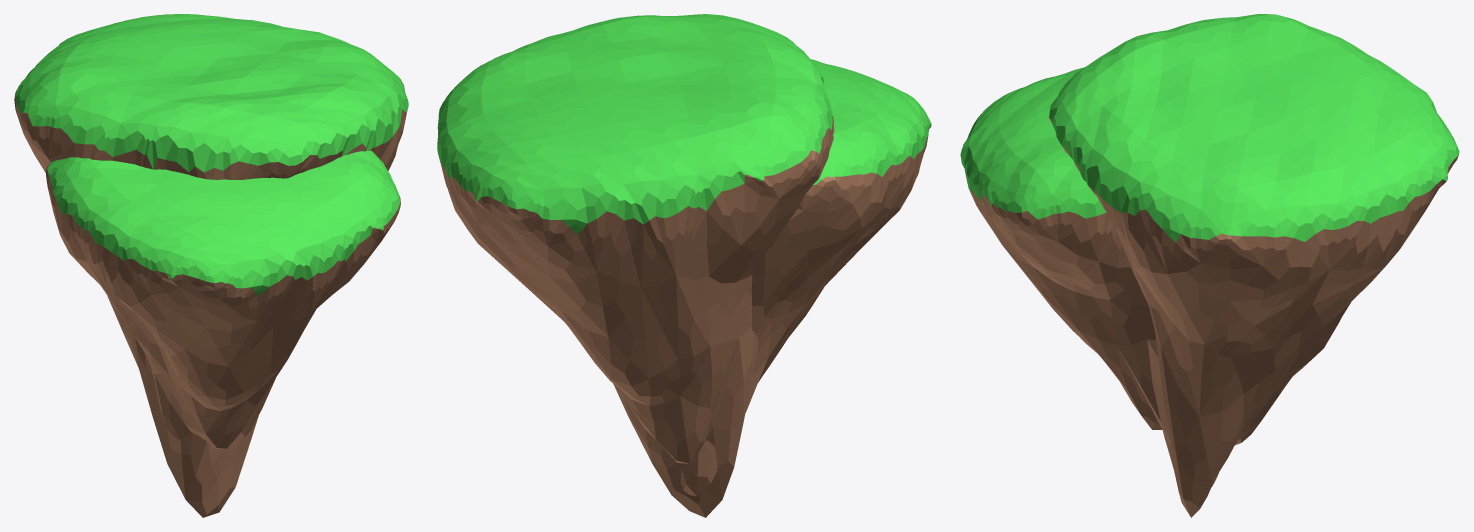
Rendered from islandvariated.fbx.
The picture shows the model from 3 angles, left to right: view 1: azimuth 30°, elevation 25°; view 2: azimuth 150°, elevation 25°; view 3: azimuth 270°, elevation 25°; orthographic projection. The views are drawn at different scales.
Visible parts, largest first — view 1: Island.001, Island; view 2: Island, Island.001; view 3: Island, Island.001.
Part boxes in pixels (bbox=[...]): Island.001: bbox=[45, 150, 400, 448]; Island: bbox=[14, 14, 408, 517]; Island: bbox=[437, 14, 834, 517]; Island.001: bbox=[680, 59, 931, 496]; Island: bbox=[1049, 14, 1459, 517]; Island.001: bbox=[960, 67, 1218, 486].
Bounding box in the file's own units: 4079 × 4640 × 4670.
